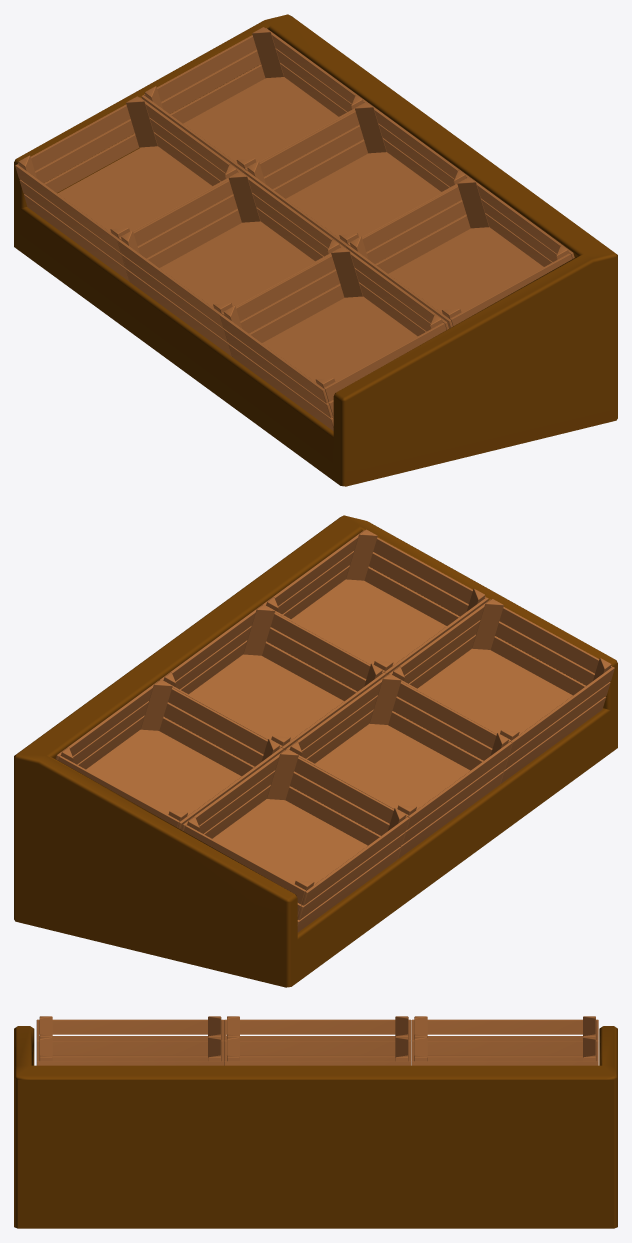
The model's file is CaixasFruta.fbx.
3 renders of one model, top to bottom at view 1: azimuth 30°, elevation 25°; view 2: azimuth 150°, elevation 25°; view 3: azimuth 270°, elevation 25°, orthographic. The views are drawn at different scales.
Parts seen in each view (by area): view 1: Corpo.004, M_3.011, Bottom.009, M_1.021, M_3.008, Bottom.006, Bottom.007; view 2: Corpo.004, Bottom.009, M_1.021, M_3.011, Bottom.006, Bottom.007, M_3.008; view 3: Corpo.004, M_3.008, Bottom.007, Bottom.006, M_3.011, M_1.021, Bottom.009.
Part boxes in pixels (x1,y1,x2,y2): Corpo.004: [14, 14, 617, 486]; M_3.011: [220, 246, 448, 430]; Bottom.009: [15, 96, 241, 281]; M_1.021: [118, 171, 344, 356]; M_3.008: [346, 177, 574, 328]; Bottom.006: [141, 27, 367, 187]; Bottom.007: [244, 102, 470, 261]; Corpo.004: [14, 515, 617, 987]; Bottom.009: [181, 749, 409, 932]; M_1.021: [285, 674, 512, 858]; M_3.011: [388, 599, 614, 784]; Bottom.006: [55, 680, 283, 829]; Bottom.007: [159, 604, 385, 764]; M_3.008: [262, 529, 488, 689]; Corpo.004: [14, 1026, 617, 1228]; M_3.008: [36, 1037, 223, 1065]; Bottom.007: [224, 1037, 411, 1065]; Bottom.006: [411, 1037, 598, 1065]; M_3.011: [36, 1016, 223, 1056]; M_1.021: [224, 1016, 411, 1056]; Bottom.009: [411, 1016, 598, 1056].
Bounding box in the file's own units: 163 × 92.65 × 328.
